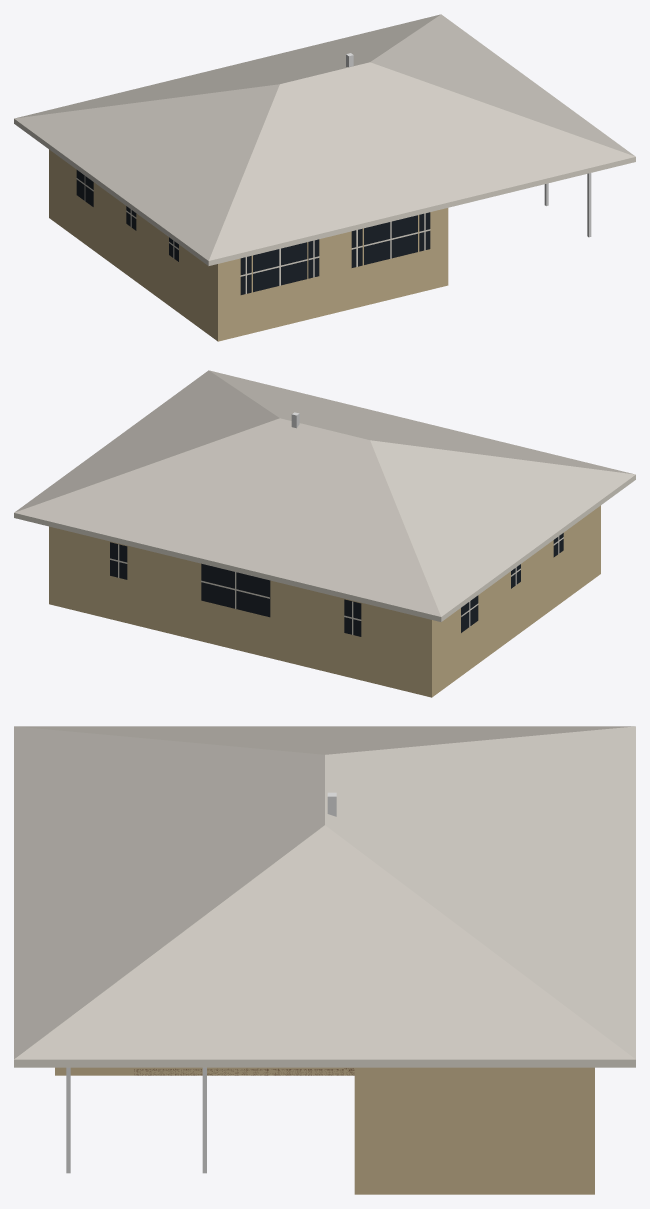
The model's file is daisy-bates-house.glb.
3 renders of one model, top to bottom at view 1: azimuth 30°, elevation 25°; view 2: azimuth 150°, elevation 25°; view 3: azimuth 270°, elevation 25°, orthographic. The views are drawn at different scales.
Parts seen in each view (by area): view 1: daisy_roof, daisy_brick, daisy_glass, daisy_trim, daisy_sash, daisy_iron; view 2: daisy_roof, daisy_brick, daisy_glass, daisy_trim, daisy_sash; view 3: daisy_roof, daisy_brick, daisy_trim, daisy_iron.
Part boxes in pixels (x1,y1,x2,y2): daisy_roof: [14, 14, 635, 260]; daisy_brick: [49, 149, 448, 341]; daisy_glass: [76, 170, 430, 294]; daisy_trim: [14, 119, 635, 265]; daisy_sash: [76, 176, 430, 293]; daisy_iron: [346, 53, 591, 237]; daisy_roof: [14, 370, 635, 616]; daisy_brick: [49, 505, 600, 697]; daisy_glass: [110, 533, 563, 636]; daisy_trim: [14, 475, 635, 621]; daisy_sash: [110, 536, 563, 634]; daisy_roof: [14, 726, 635, 1059]; daisy_brick: [55, 1067, 594, 1194]; daisy_trim: [14, 1059, 635, 1067]; daisy_iron: [66, 792, 336, 1173].
Size of the model in its own units: 17.34 by 6.6 by 13.69.
